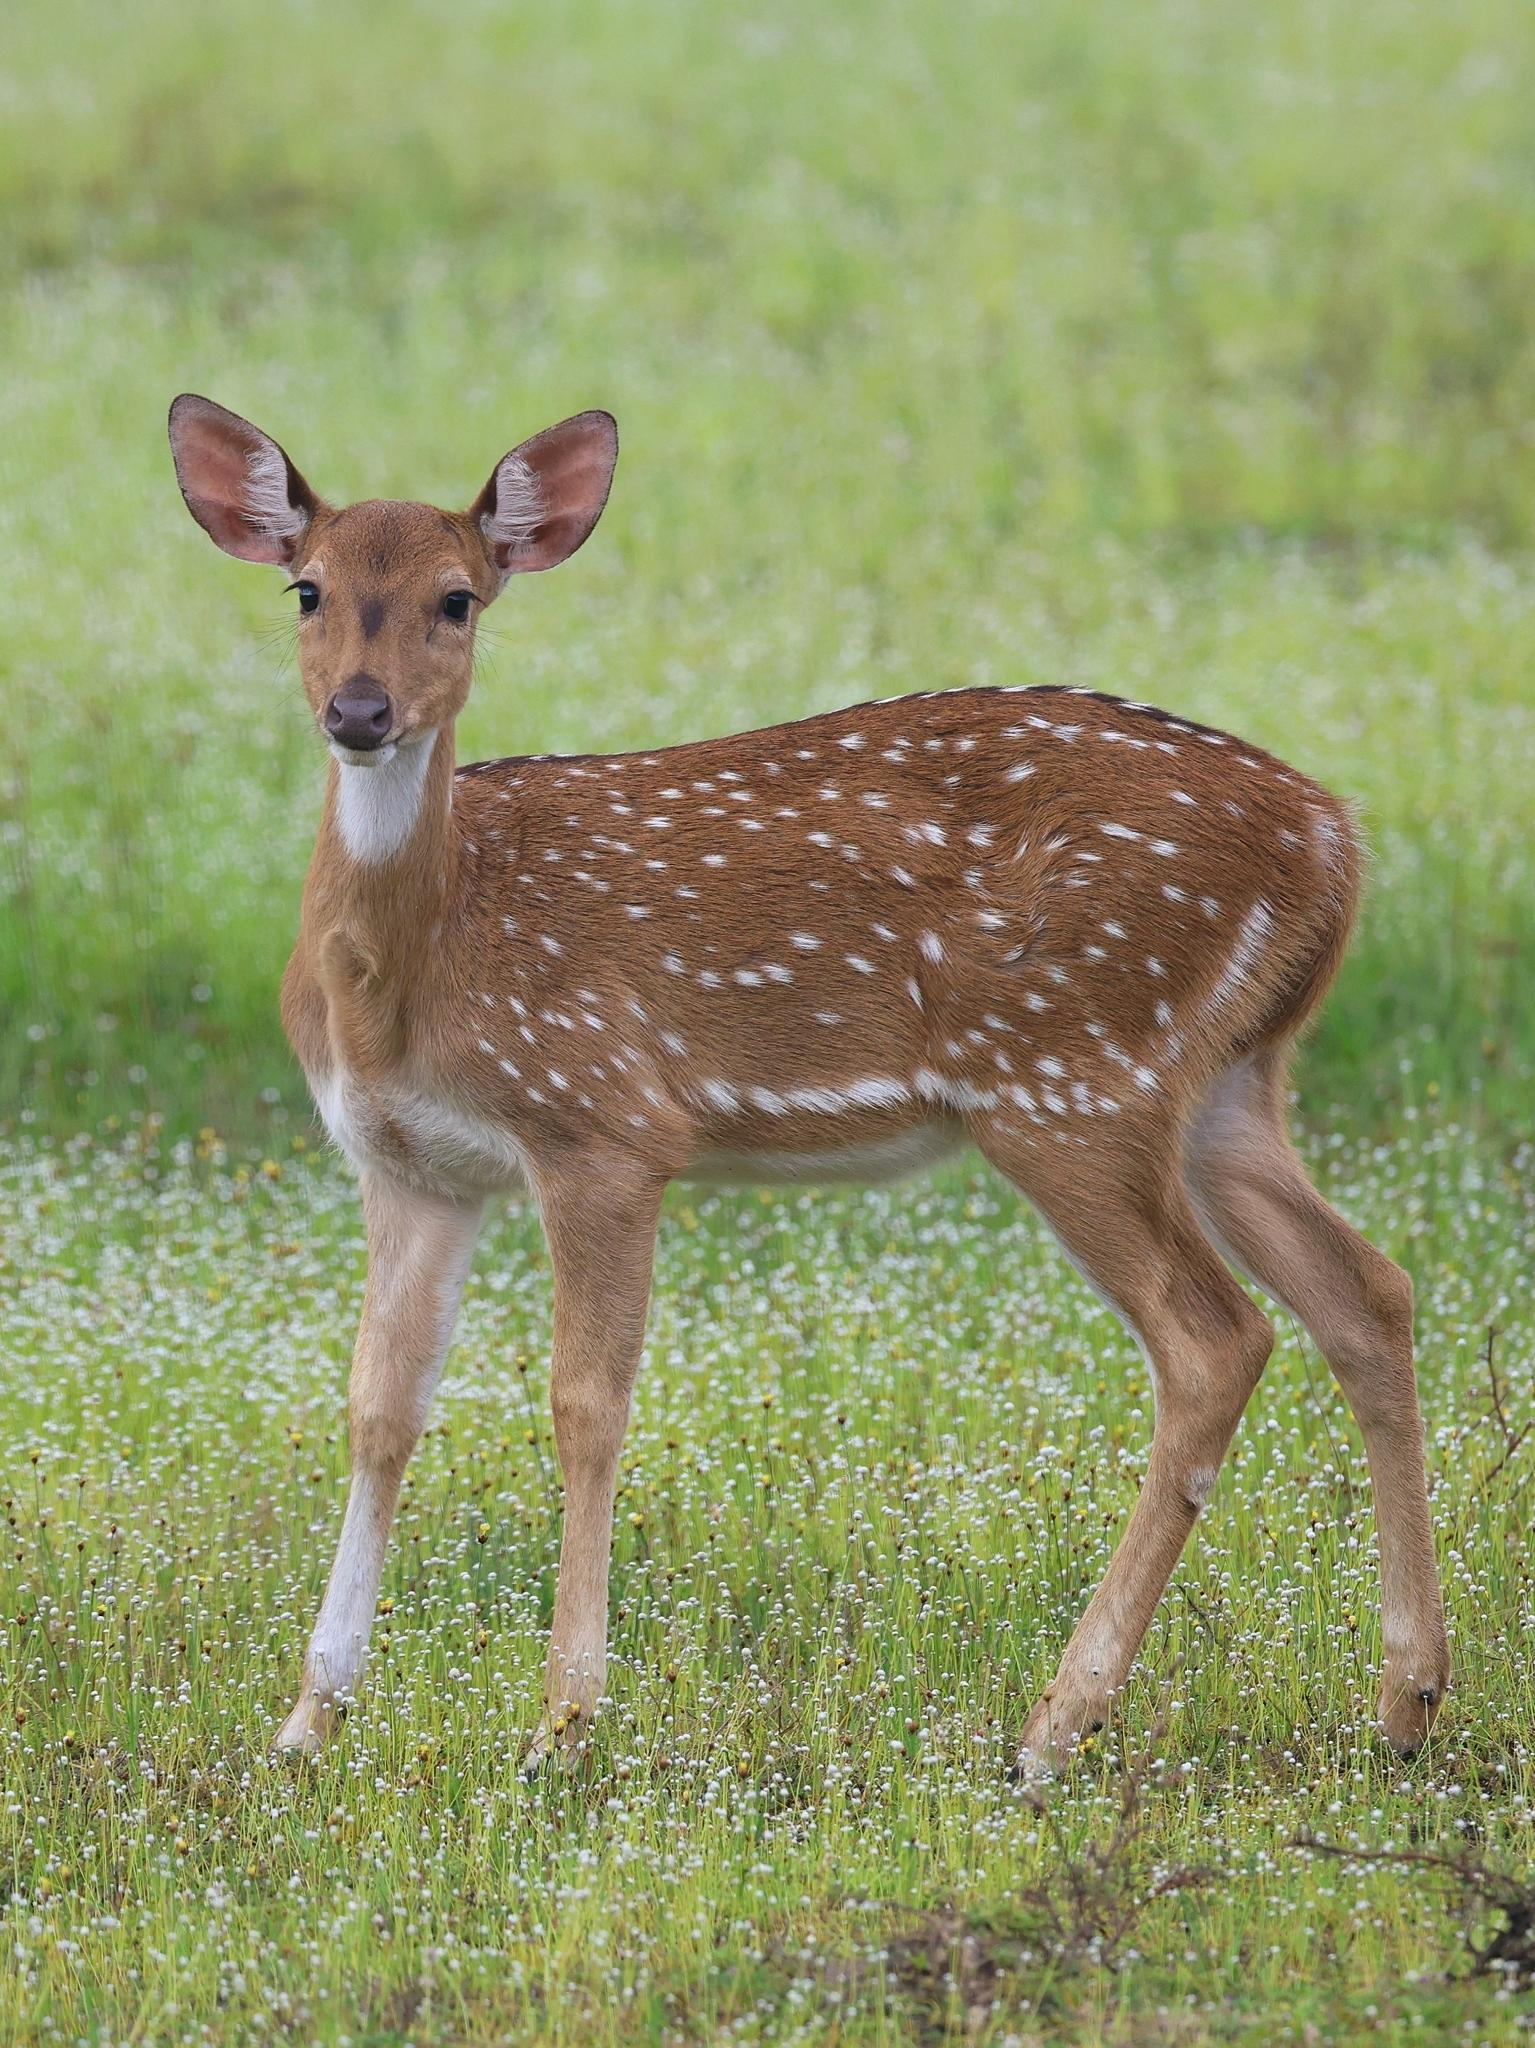Deer: (169, 397, 1450, 1782)
